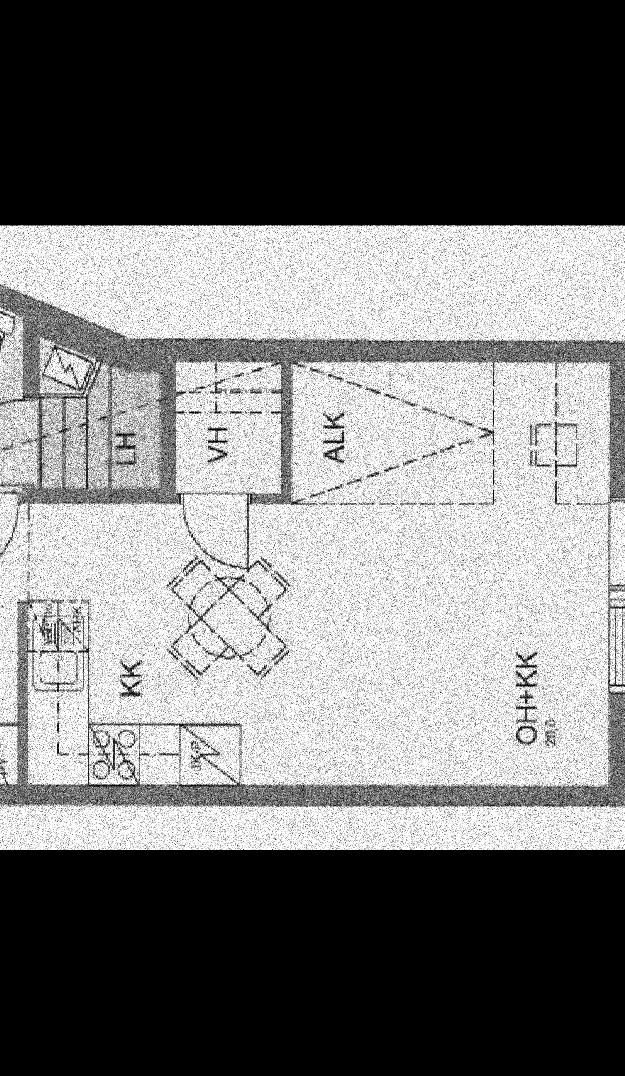door: (182, 481, 246, 578), (0, 396, 37, 485), (594, 498, 625, 585)
window: (596, 594, 625, 695)
zone: (28, 364, 604, 787), (30, 356, 174, 492), (173, 364, 284, 496), (0, 240, 42, 487)
